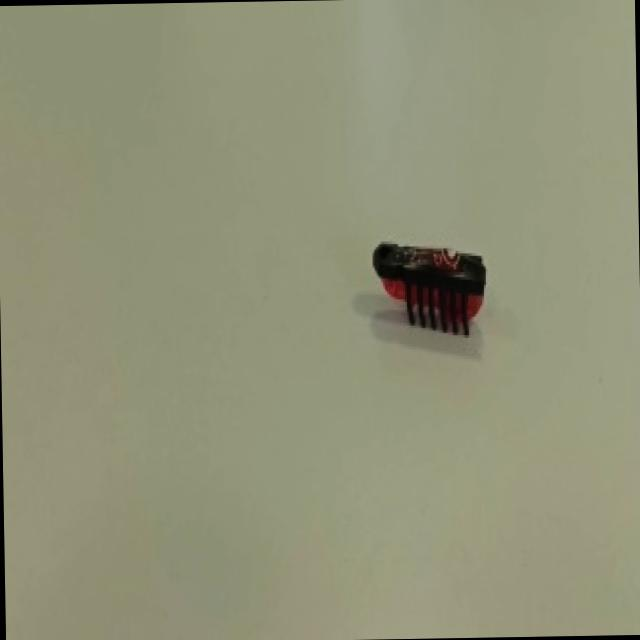2_NanoBug_Negro: (356, 212, 508, 363)
